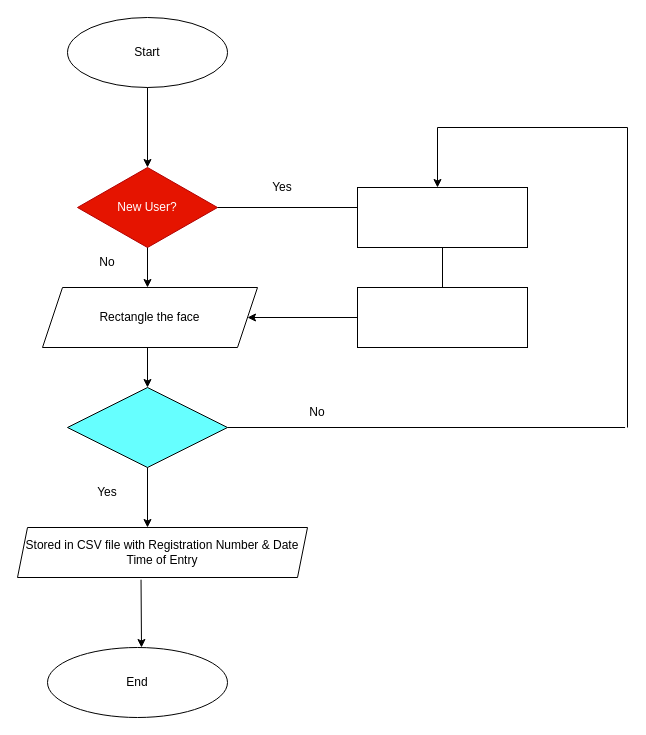
Image size: 646x735. Some labels were removed from this diagram. Here are the shapes that lost their labels. From the top down, the box of each, then its label:
(356, 186, 528, 248): Give your photograph
(356, 286, 528, 348): store the face data in folder on your name
(66, 386, 228, 468): Face Recognized
